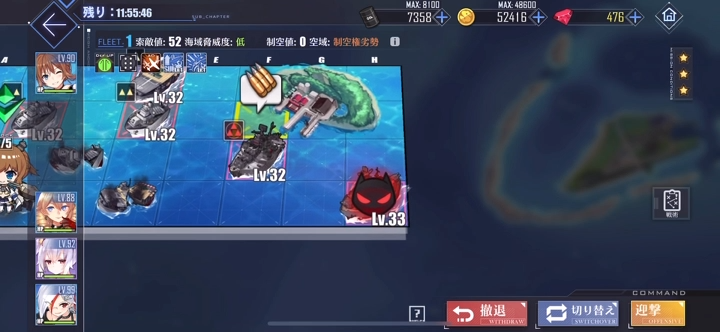boss: (345, 168, 408, 229)
lv3: (222, 116, 290, 176)
